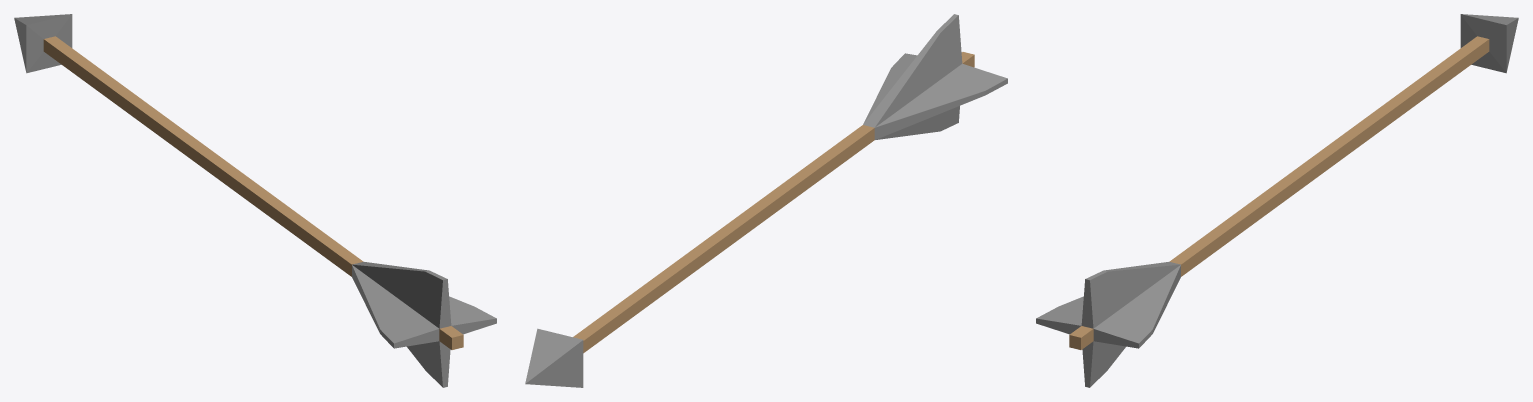
File: arrow.fbx
The picture shows the model from 3 angles, left to right: view 1: azimuth 30°, elevation 25°; view 2: azimuth 150°, elevation 25°; view 3: azimuth 330°, elevation 25°; orthographic projection.
Parts seen in each view (by area): view 1: Cube; view 2: Cube; view 3: Cube.
Part boxes in pixels (box(x1,y1,x2,y2)): Cube: box(14, 14, 496, 387); Cube: box(525, 14, 1007, 387); Cube: box(1036, 14, 1518, 387).
Bounding box in the file's own units: 39.58 × 39.58 × 296.
